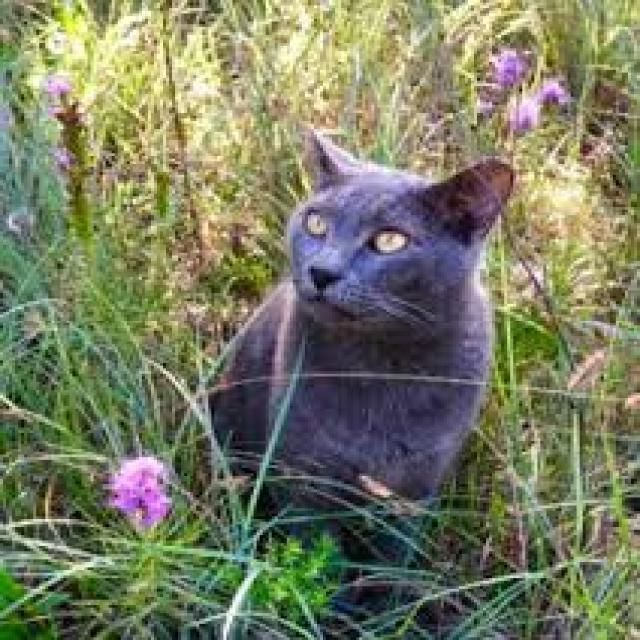cat: (210, 130, 514, 499)
